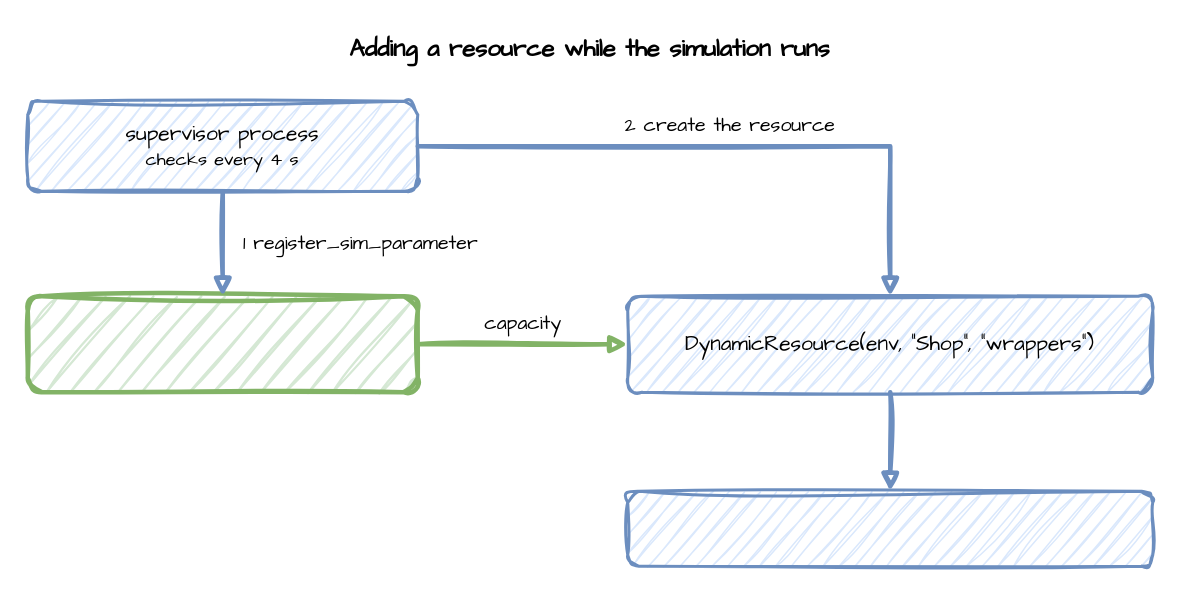
Some shapes in this 1181 by 593 pixel diagram are drawn without their labels. The centre of each missing label's shape, as x and y in pixels:
"new workers request the wrappers" belongs at (x=890, y=528).
"registry new Shop.resources.wrappers paths" belongs at (x=222, y=343).
